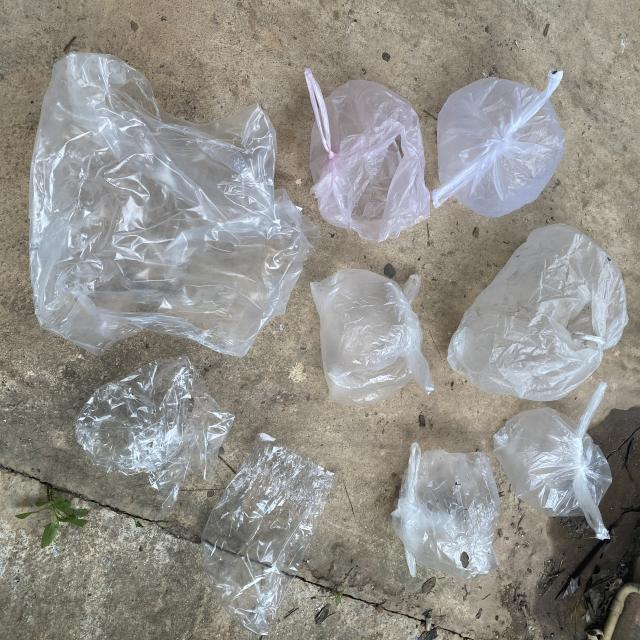Single-layer Plastic: (30, 52, 319, 356), (448, 224, 628, 401), (201, 434, 336, 634), (75, 358, 234, 518), (305, 69, 430, 241), (431, 70, 565, 218), (494, 382, 611, 540), (310, 269, 434, 405), (391, 442, 500, 579)
